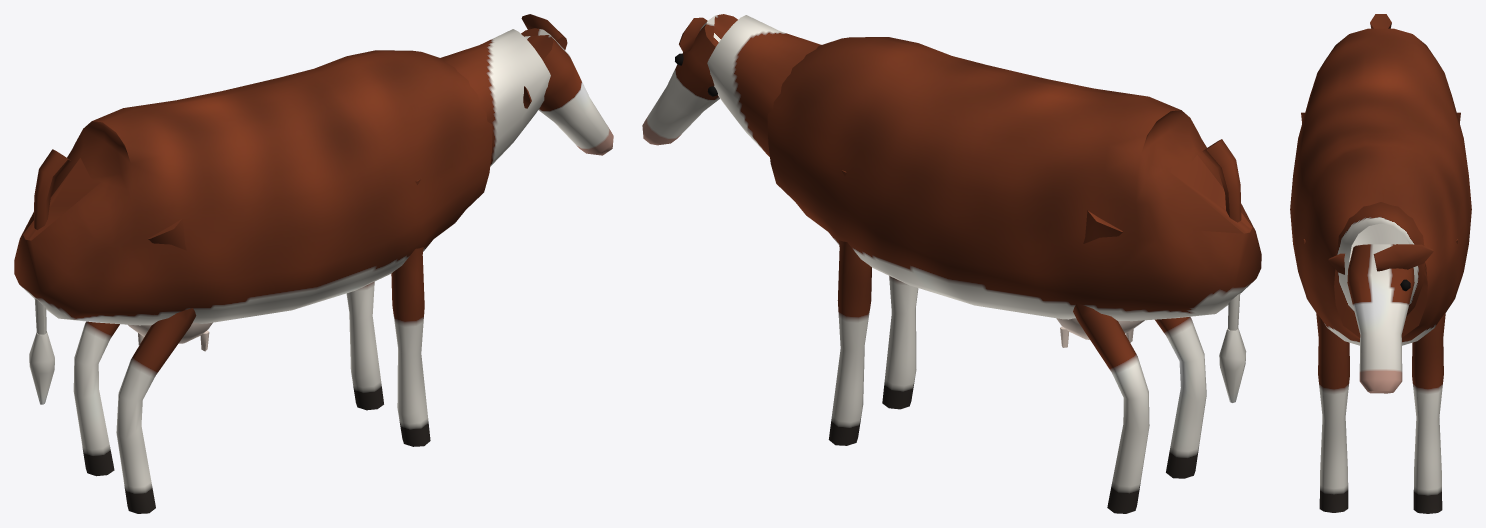
File: tpl_life_herd_2021_cattle_mrij_stand.glb
3 renders of one model, left to right at view 1: azimuth 30°, elevation 25°; view 2: azimuth 150°, elevation 25°; view 3: azimuth 270°, elevation 25°, orthographic. The views are drawn at different scales.
Parts seen in each view (by area): view 1: tpl_life_herd_2021_cattle_mrij_stand; view 2: tpl_life_herd_2021_cattle_mrij_stand; view 3: tpl_life_herd_2021_cattle_mrij_stand.
Boxes of the visible parts, x1,y1,x2,y2 form: tpl_life_herd_2021_cattle_mrij_stand: [14, 14, 613, 513]; tpl_life_herd_2021_cattle_mrij_stand: [642, 14, 1261, 513]; tpl_life_herd_2021_cattle_mrij_stand: [1290, 14, 1471, 513].
Bounding box in the file's own units: 2.34 × 1.41 × 0.6588.
2 materials, 1 textured.
